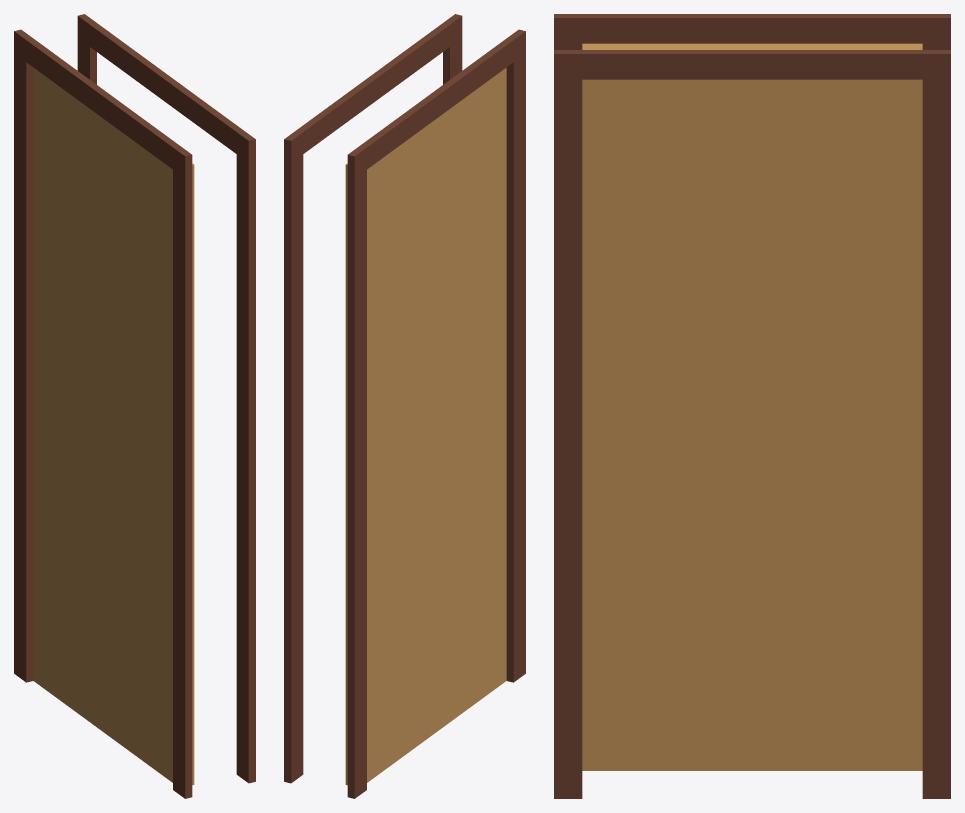
File: randomEmptyHouseProj_3ZDgRRt$L4C8_EHOzR3l9j-Level 1_IfcDoor.dae
3 renders of one model, left to right at view 1: azimuth 30°, elevation 25°; view 2: azimuth 150°, elevation 25°; view 3: azimuth 270°, elevation 25°, orthographic. The views are drawn at different scales.
Visible parts, largest first — view 1: 0WZmLWcPL1pu_Vf6vRMG4g; view 2: 0WZmLWcPL1pu_Vf6vRMG4g; view 3: 0WZmLWcPL1pu_Vf6vRMG4g.
Part boxes in pixels (x1,y1,x2,y2): 0WZmLWcPL1pu_Vf6vRMG4g: (14, 14, 255, 798); 0WZmLWcPL1pu_Vf6vRMG4g: (284, 14, 525, 798); 0WZmLWcPL1pu_Vf6vRMG4g: (554, 14, 950, 798).
Size of the model in its own units: 0.254 by 1.07 by 2.21.
